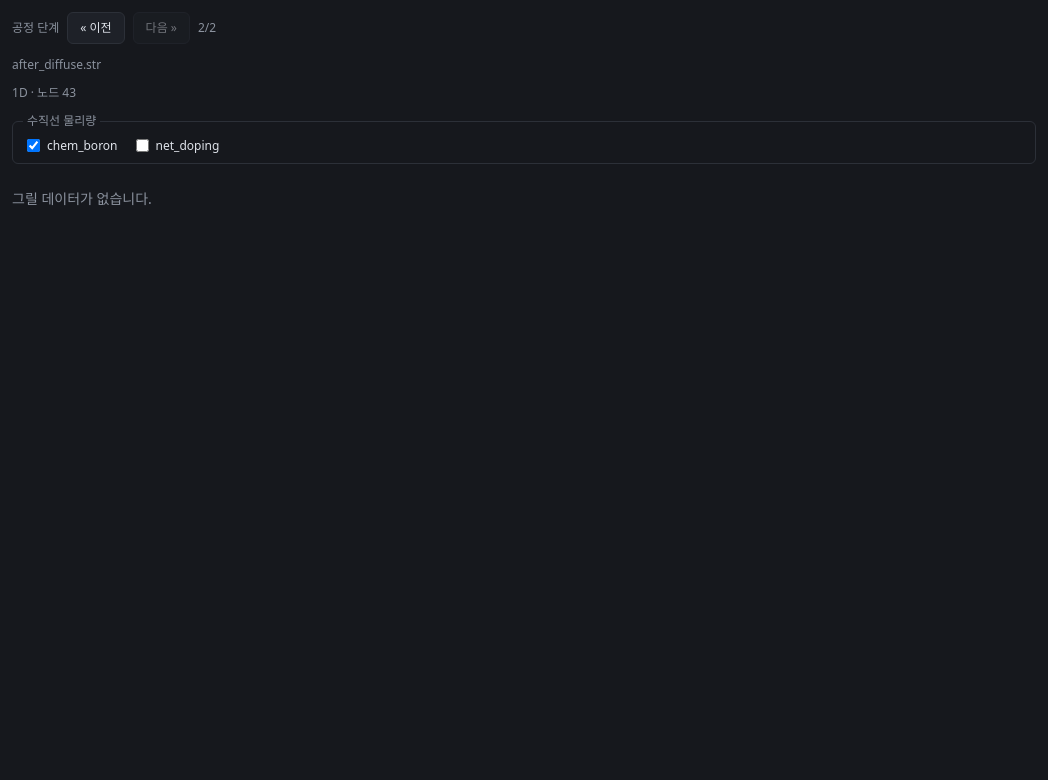
공정 단계 › 꾹 누르기가 버튼에 연결돼 있다
Expected: the text "2/2" is shown, [198, 19, 216, 37]
Press the mouse on the button "« 이전" at (96, 28), box [67, 12, 125, 44]
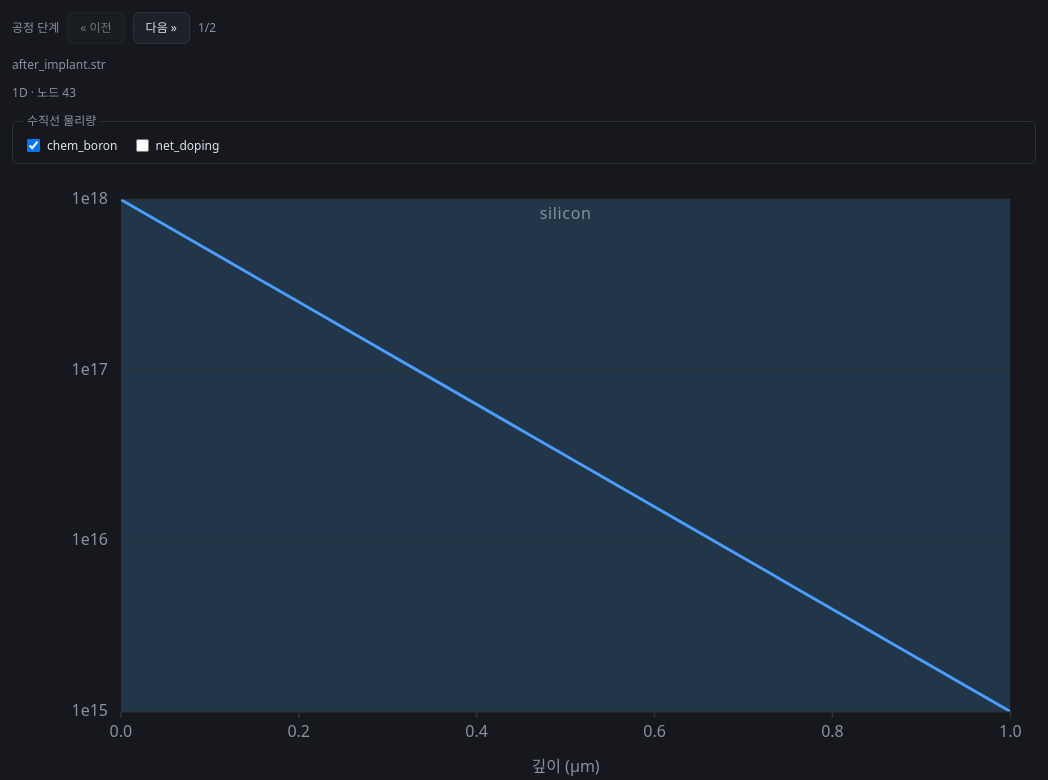
Result: the text "1/2" is shown at [198, 19, 216, 37]
